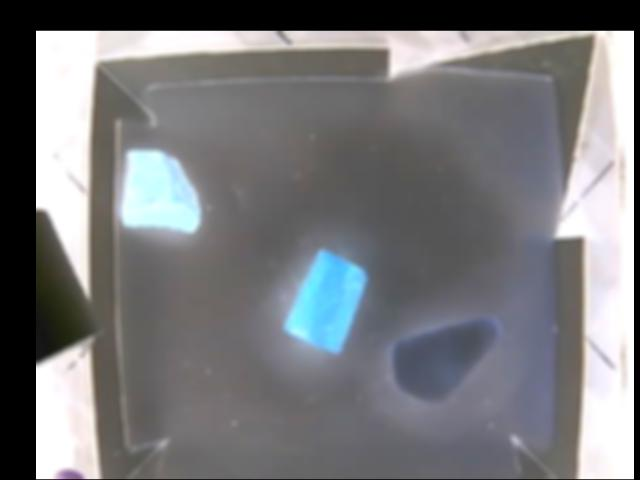Brisk: (123, 150, 203, 232)
Carrot: (287, 248, 365, 355)
Mooli: (387, 317, 503, 407)
